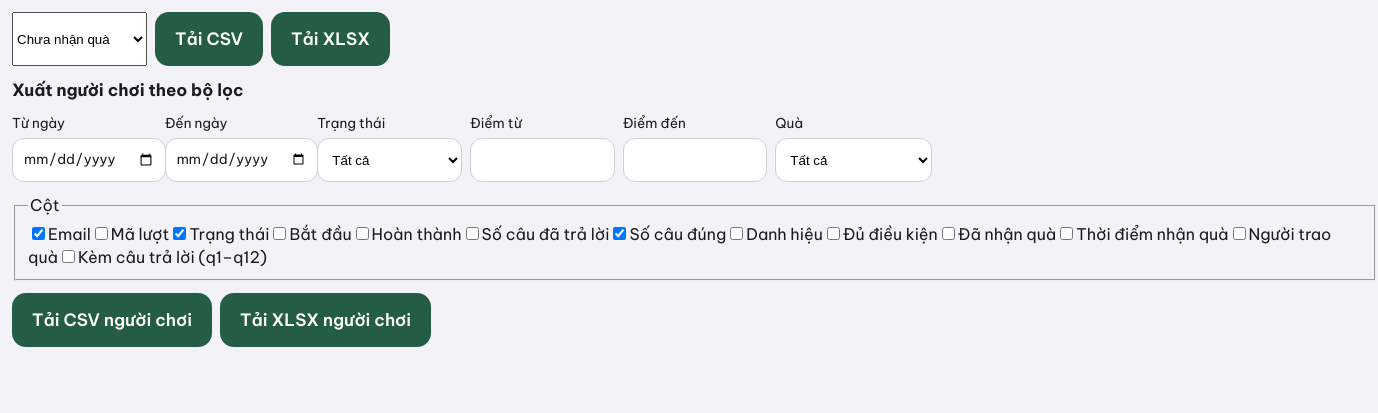
RPC failure shows alert, no file
Step 1. Click the button "Tải XLSX" → (330, 39), box [271,12,390,66]
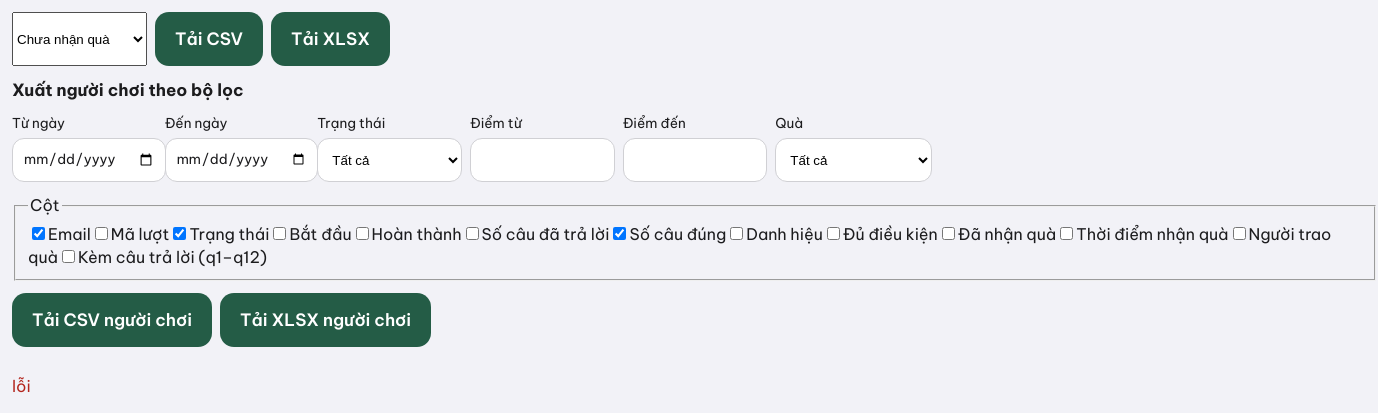
Result: the message reads "lỗi" at [12,376,31,396]
